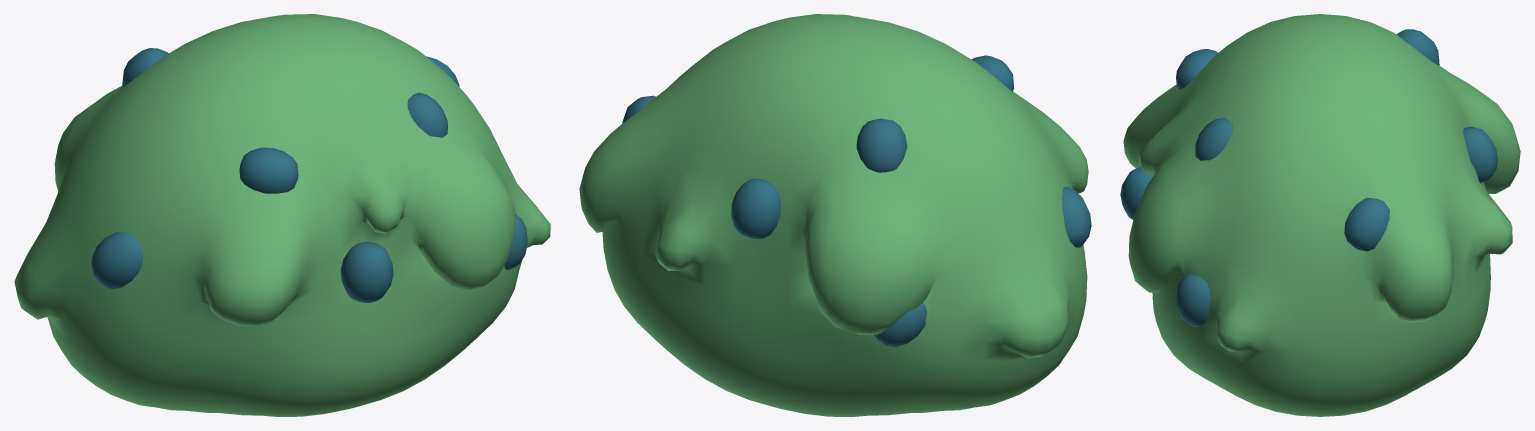
Rendered from Bush_Berry_01.dae.
The picture shows the model from 3 angles, left to right: view 1: azimuth 30°, elevation 25°; view 2: azimuth 150°, elevation 25°; view 3: azimuth 270°, elevation 25°; orthographic projection. The views are drawn at different scales.
Visible parts, largest first — view 1: Bush_Berry_01_LOD0; view 2: Bush_Berry_01_LOD0; view 3: Bush_Berry_01_LOD0.
Part boxes in pixels (x1,y1,x2,y2): Bush_Berry_01_LOD0: [14, 14, 550, 416]; Bush_Berry_01_LOD0: [579, 14, 1091, 416]; Bush_Berry_01_LOD0: [1120, 14, 1520, 416].
Size of what is drawn, in the model's own units: 6.63 by 5.3 by 4.57.
